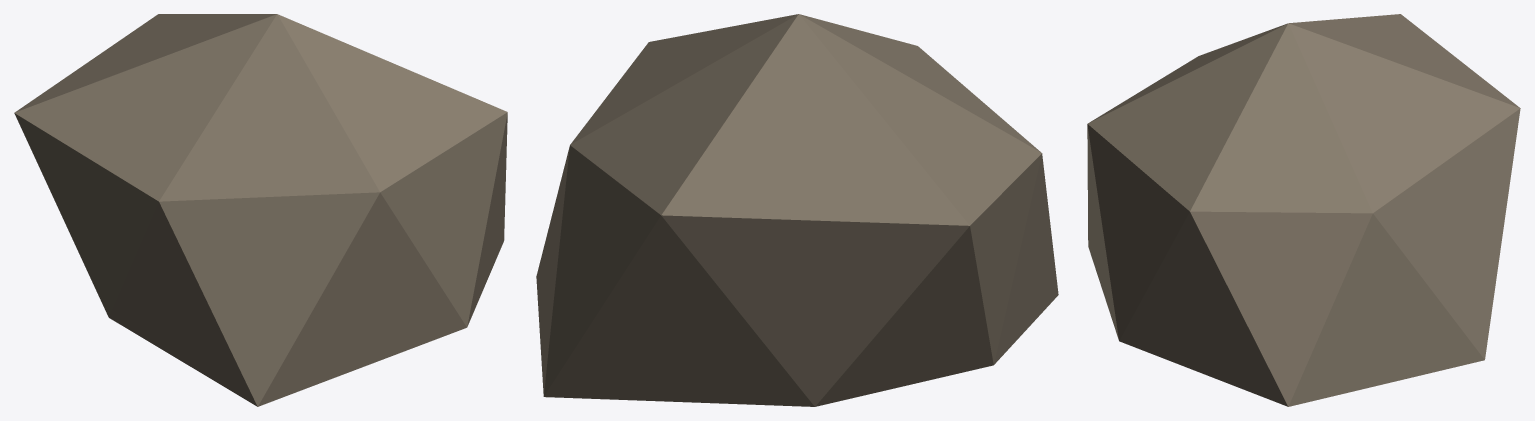
File: rock_a.glb
The picture shows the model from 3 angles, left to right: view 1: azimuth 30°, elevation 25°; view 2: azimuth 150°, elevation 25°; view 3: azimuth 270°, elevation 25°; orthographic projection. The views are drawn at different scales.
Visible parts, largest first — view 1: rock_a; view 2: rock_a; view 3: rock_a.
Boxes of the visible parts, bbox=[...] form: rock_a: bbox=[14, 14, 507, 406]; rock_a: bbox=[536, 14, 1058, 406]; rock_a: bbox=[1087, 14, 1520, 406].
Size of the model in its own units: 0.7043 by 0.4485 by 0.6259.
